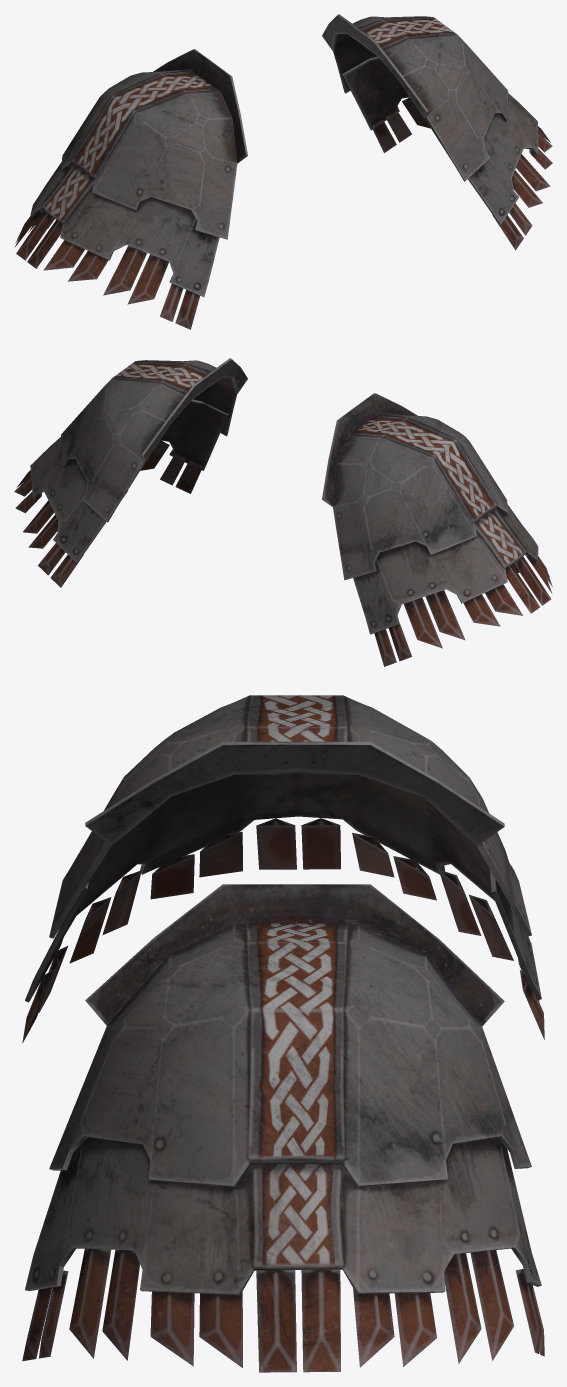
The model's file is sk_dwarf_iron_pauldron_elite_a.fbx.
The picture shows the model from 3 angles, top to bottom: view 1: azimuth 30°, elevation 25°; view 2: azimuth 150°, elevation 25°; view 3: azimuth 270°, elevation 25°; orthographic projection. The views are drawn at different scales.
Parts seen in each view (by area): view 1: sk_dwarf_iron_pauldron_elite_a; view 2: sk_dwarf_iron_pauldron_elite_a; view 3: sk_dwarf_iron_pauldron_elite_a.
Part boxes in pixels (box(x1,y1,x2,y2)): sk_dwarf_iron_pauldron_elite_a: box(14, 14, 552, 329); sk_dwarf_iron_pauldron_elite_a: box(14, 358, 552, 666); sk_dwarf_iron_pauldron_elite_a: box(22, 695, 544, 1372).
Size of the model in its own units: 0.7683 by 0.3375 by 0.2781.
1 material, 1 textured.
